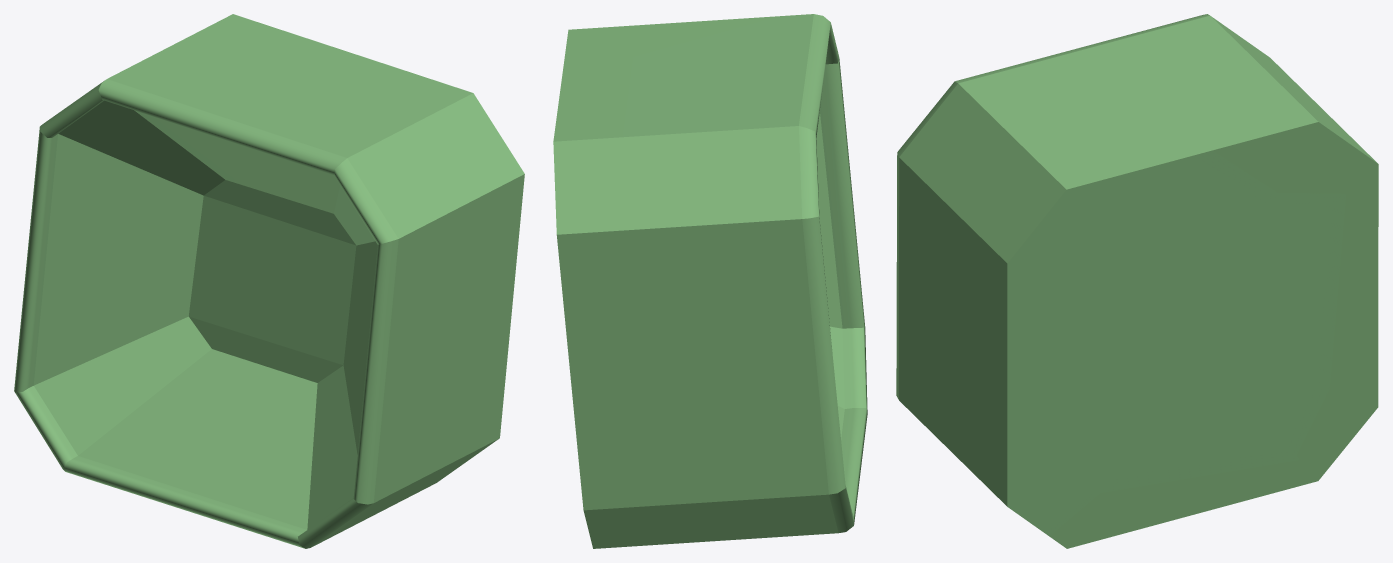
File: BL5_8shapes_Square_Classic_Metal.001 2.glb
The picture shows the model from 3 angles, left to right: view 1: azimuth 30°, elevation 25°; view 2: azimuth 150°, elevation 25°; view 3: azimuth 270°, elevation 25°; orthographic projection. The views are drawn at different scales.
Parts seen in each view (by area): view 1: BL5_8shapes_Square_Classic_Metal.001; view 2: BL5_8shapes_Square_Classic_Metal.001; view 3: BL5_8shapes_Square_Classic_Metal.001.
Boxes of the visible parts, bbox=[...] form: BL5_8shapes_Square_Classic_Metal.001: bbox=[14, 14, 524, 548]; BL5_8shapes_Square_Classic_Metal.001: bbox=[553, 14, 867, 548]; BL5_8shapes_Square_Classic_Metal.001: bbox=[896, 14, 1378, 548].
Size of the model in its own units: 0.4868 by 0.5013 by 0.5354.
